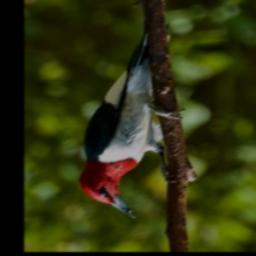Woodpecker: (78, 25, 183, 218)
